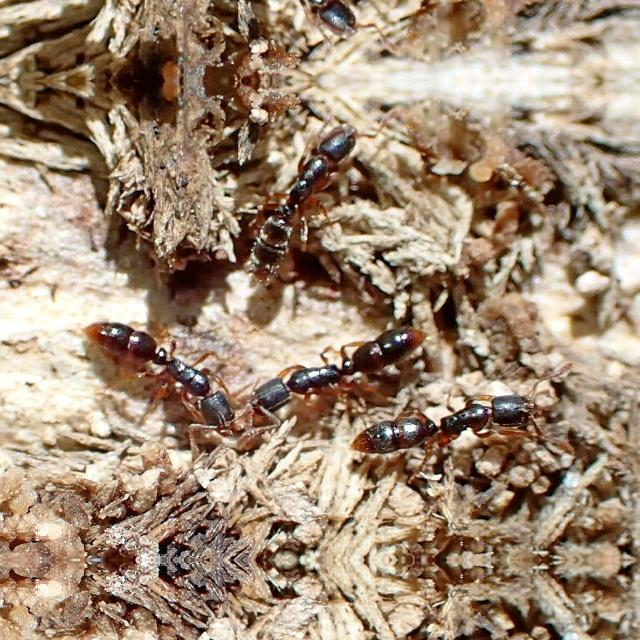Ponera: (233, 95, 383, 298), (333, 368, 572, 492), (238, 310, 457, 428), (76, 308, 252, 449), (233, 0, 383, 64)
